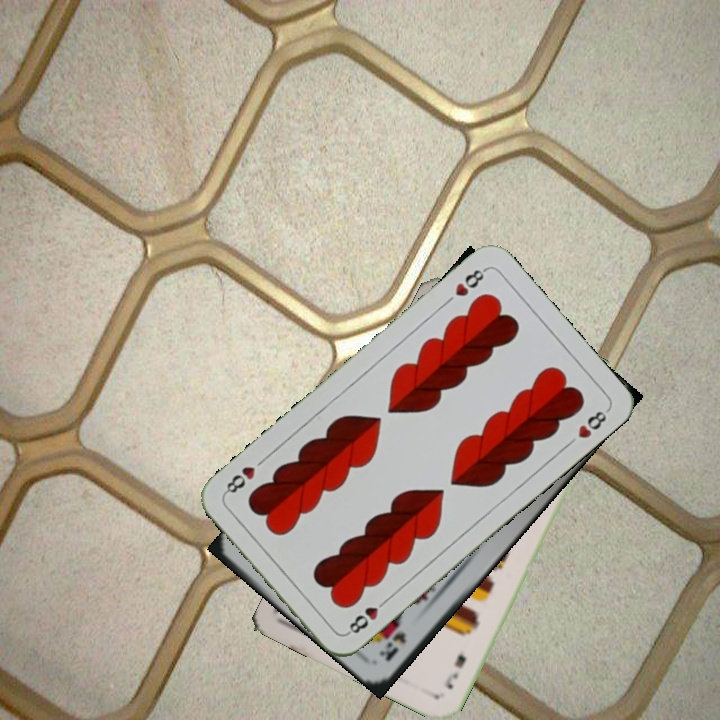E7: (440, 649, 470, 692)
H8: (342, 594, 391, 637), (450, 264, 489, 299)
SK: (375, 628, 409, 664)
